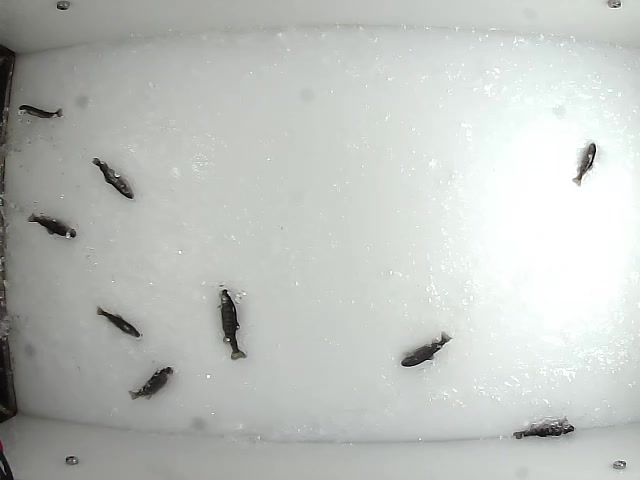fish: (89, 152, 137, 201), (397, 327, 453, 368), (218, 287, 248, 361), (124, 361, 175, 401), (95, 305, 143, 340), (511, 416, 575, 441), (23, 211, 80, 238), (569, 140, 599, 188), (15, 100, 65, 118)
